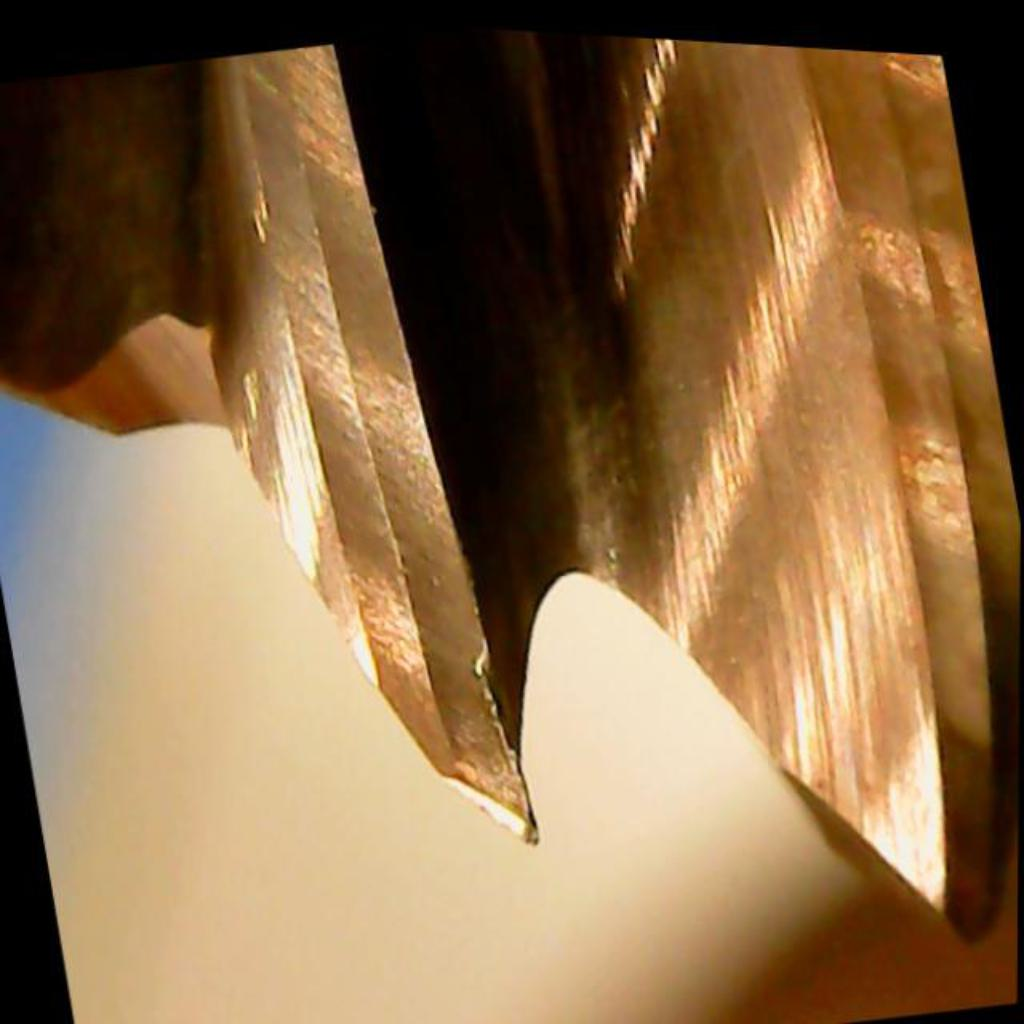Tool-wear-class-1: (277, 360, 564, 876)
